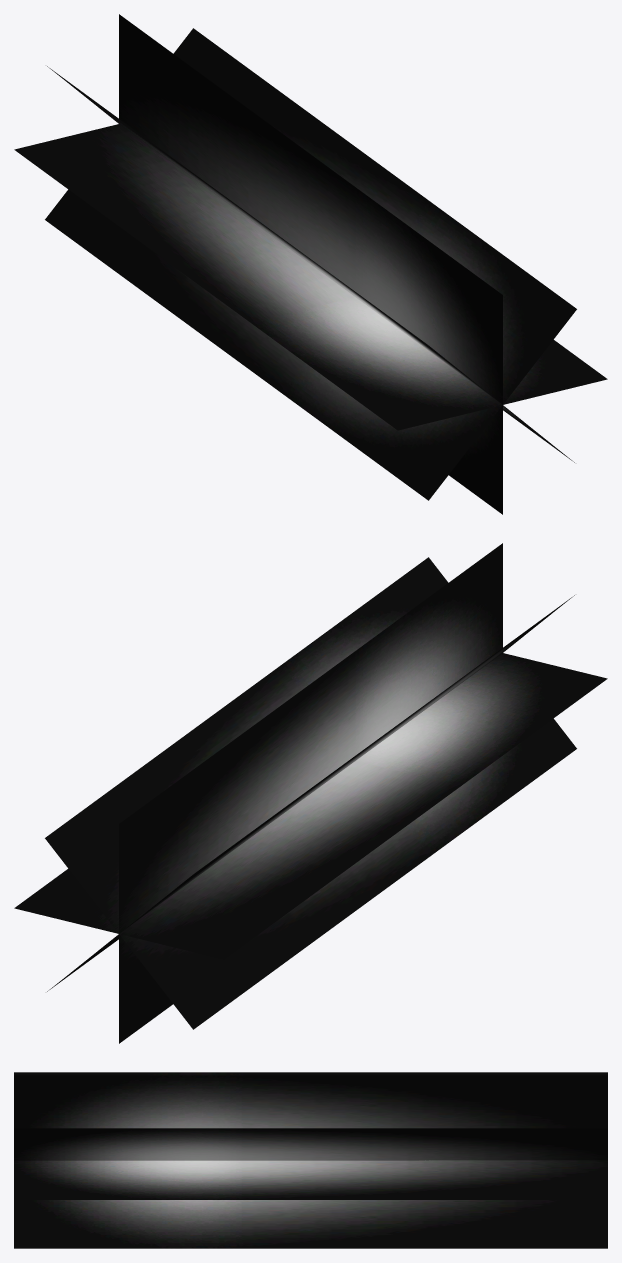
The model's file is vfx_kurp_0330.dae.
The picture shows the model from 3 angles, top to bottom: view 1: azimuth 30°, elevation 25°; view 2: azimuth 150°, elevation 25°; view 3: azimuth 270°, elevation 25°; orthographic projection. The views are drawn at different scales.
Visible parts, largest first — view 1: vfx_kurp_0330; view 2: vfx_kurp_0330; view 3: vfx_kurp_0330.
Part boxes in pixels (left/top/right/bottom): vfx_kurp_0330: left=14, top=14, right=607, bottom=514; vfx_kurp_0330: left=14, top=543, right=607, bottom=1043; vfx_kurp_0330: left=14, top=1072, right=607, bottom=1248.
Size of the model in its own units: 7.39 by 23.4 by 7.39.
Materials: 1 (1 with a texture image).
